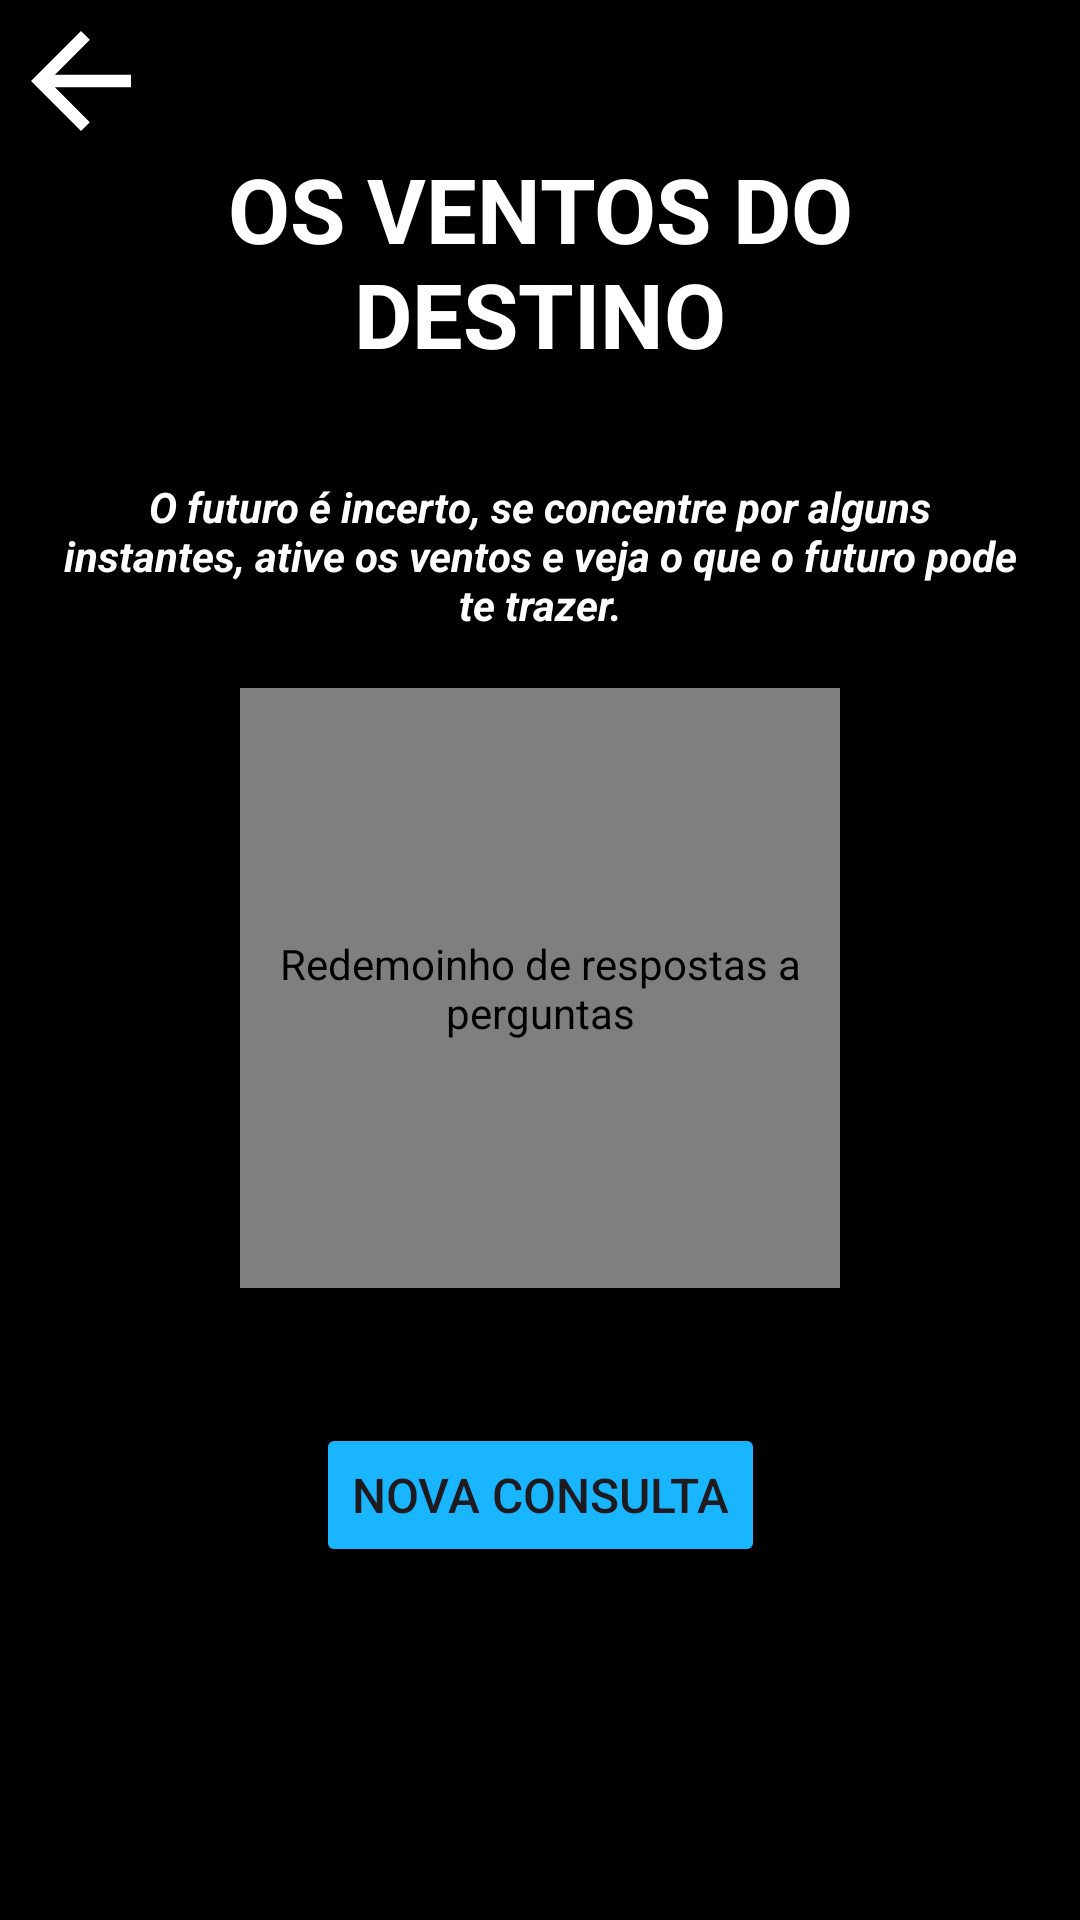

Where to tap for icons on this 1080x1920 app screen, as (x,y):
Voltar para a tela anterior: (81,81)
